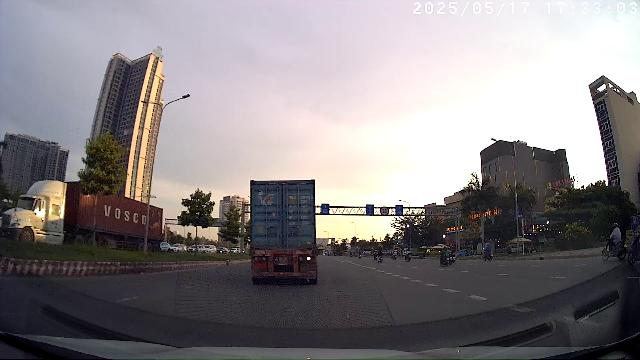127-toc-do-toi-da-50: (379, 207, 388, 215)
